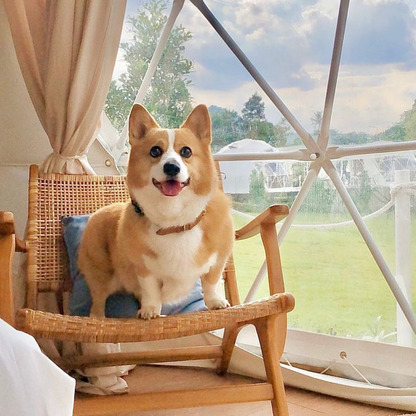Corgi: (66, 104, 253, 310)
